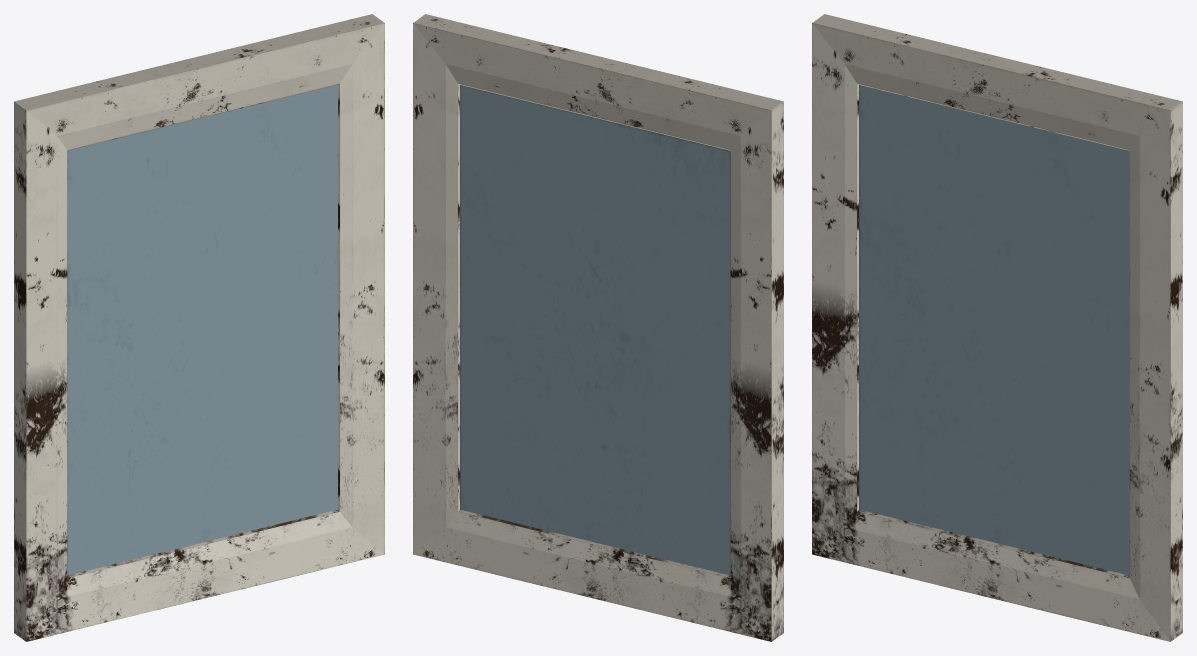
The model's file is Broken Mirror.dae.
The picture shows the model from 3 angles, left to right: view 1: azimuth 30°, elevation 25°; view 2: azimuth 150°, elevation 25°; view 3: azimuth 330°, elevation 25°; orthographic projection.
Parts seen in each view (by area): view 1: Cube.001, Cube; view 2: Cube.001, Cube; view 3: Cube.001, Cube.
Boxes of the visible parts, left/top/right/bottom form: Cube.001: left=67, top=85, right=337, bottom=575; Cube: left=14, top=14, right=384, bottom=641; Cube.001: left=460, top=85, right=730, bottom=575; Cube: left=413, top=14, right=783, bottom=641; Cube.001: left=859, top=85, right=1129, bottom=575; Cube: left=812, top=14, right=1182, bottom=641.
Size of the model in its own units: 0.8469 by 0.05 by 1.2.
Materials: 1 (1 with a texture image).
